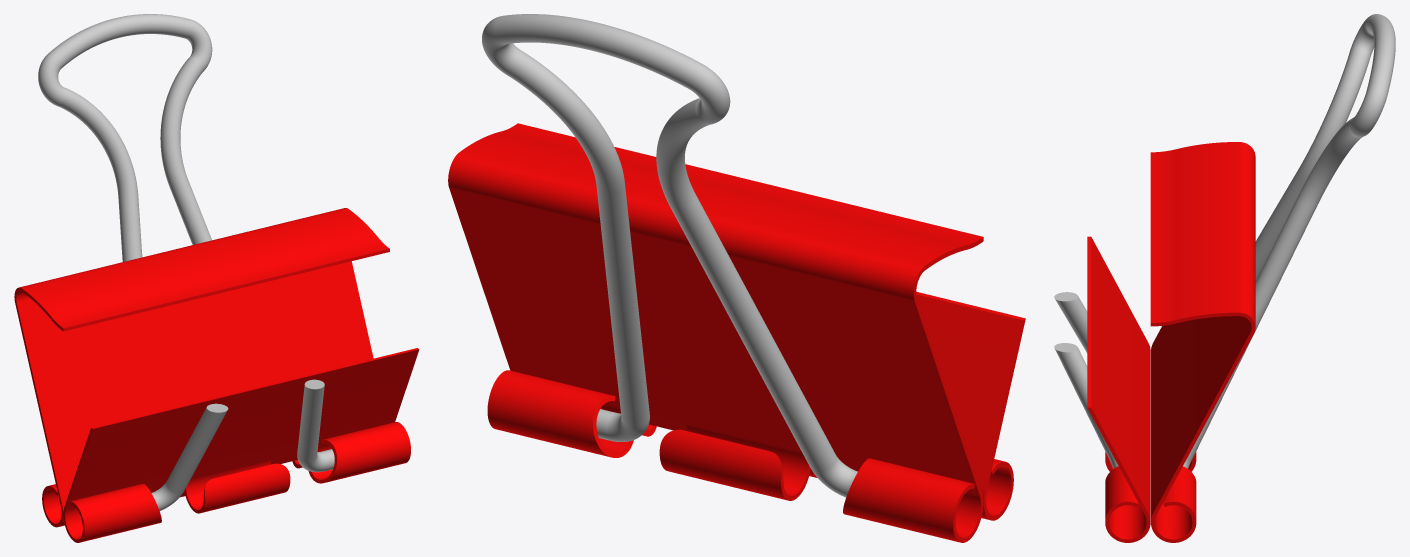
The model's file is medium5cb.glb.
3 views of the same model, side by side, from view 1: azimuth 30°, elevation 25°; view 2: azimuth 150°, elevation 25°; view 3: azimuth 270°, elevation 25° (orthographic). The views are drawn at different scales.
Visible parts, largest first — view 1: Pocket.25, Pocket.24; view 2: Pocket.25, Pocket.24; view 3: Pocket.25, Pocket.24.
Boxes of the visible parts, x1=… form: Pocket.25: x1=14, y1=208, x2=419, y2=542; Pocket.24: x1=38, y1=14, x2=334, y2=510; Pocket.25: x1=448, y1=123, x2=1025, y2=542; Pocket.24: x1=482, y1=14, x2=857, y2=497; Pocket.25: x1=1087, y1=142, x2=1255, y2=542; Pocket.24: x1=1054, y1=14, x2=1395, y2=468.
Size of the model in its own units: 0.096 by 0.111 by 0.0812.
